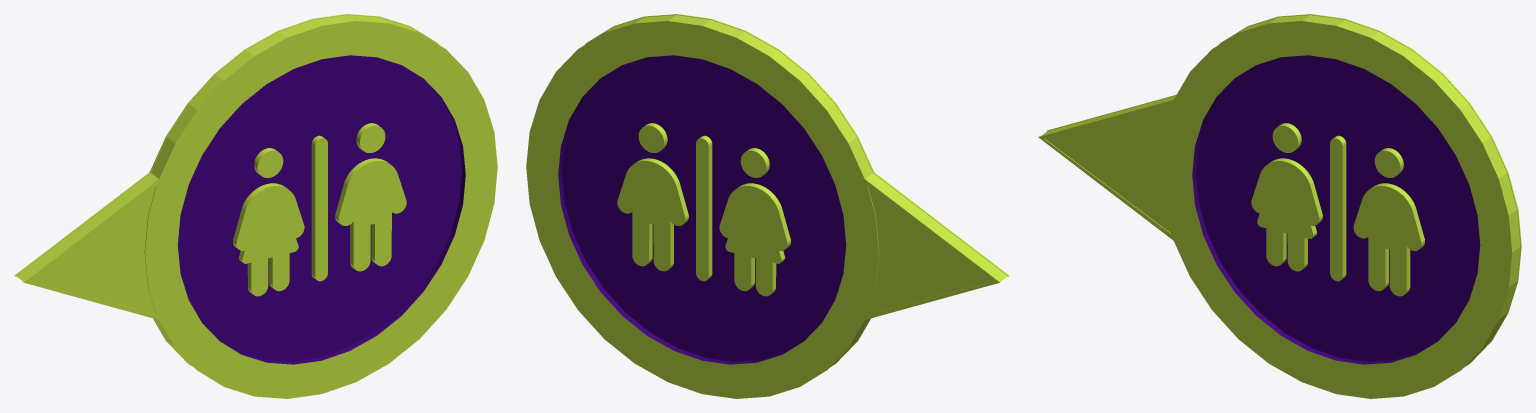
File: coin_toilet_unisex.fbx
3 views of the same model, side by side, from view 1: azimuth 30°, elevation 25°; view 2: azimuth 150°, elevation 25°; view 3: azimuth 330°, elevation 25° (orthographic).
Parts seen in each view (by area): view 1: Coin_inner, Coin_outer, Unisex_toilets_icon; view 2: Coin_inner, Coin_outer, Unisex_toilets_icon; view 3: Coin_inner, Coin_outer, Unisex_toilets_icon.
Part boxes in pixels (x1=…): Coin_inner: x1=177, y1=55, x2=461, y2=361; Coin_outer: x1=14, y1=14, x2=497, y2=398; Unisex_toilets_icon: x1=233, y1=123, x2=406, y2=296; Coin_inner: x1=562, y1=55, x2=846, y2=361; Coin_outer: x1=526, y1=14, x2=1009, y2=398; Unisex_toilets_icon: x1=617, y1=123, x2=790, y2=296; Coin_inner: x1=1196, y1=55, x2=1480, y2=361; Coin_outer: x1=1038, y1=14, x2=1521, y2=398; Unisex_toilets_icon: x1=1251, y1=123, x2=1424, y2=296.
Size of the model in its own units: 269 by 200 by 9.4.
